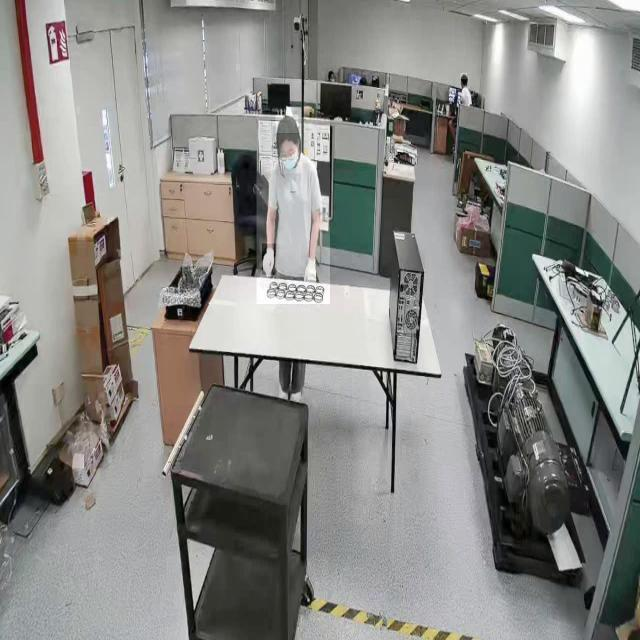face_mask: (278, 134, 302, 174)
hand_glove: (301, 253, 321, 287), (262, 243, 277, 276)
head_nohelmet: (275, 115, 299, 134), (460, 73, 468, 80)
person: (256, 117, 331, 305)
